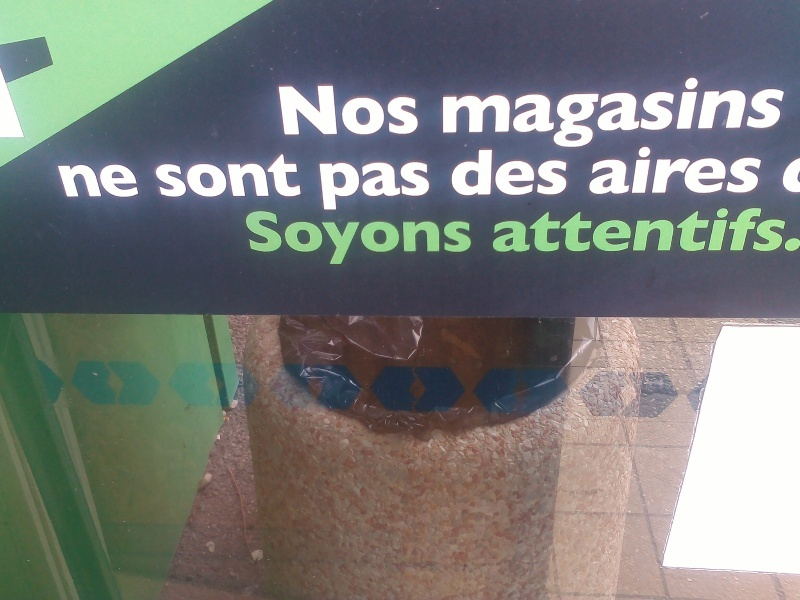text: (449, 76, 464, 151), (465, 76, 480, 151), (481, 76, 496, 151), (497, 76, 512, 151), (513, 76, 528, 151), (529, 76, 544, 151), (545, 76, 560, 151), (561, 76, 576, 151), (577, 76, 592, 151), (593, 76, 608, 151), (609, 76, 624, 151), (625, 76, 640, 151), (641, 76, 656, 151), (657, 76, 672, 151), (673, 76, 688, 151), (689, 76, 704, 151), (705, 76, 720, 151), (721, 76, 736, 151), (737, 76, 752, 151), (753, 76, 768, 151), (769, 76, 784, 151), (257, 210, 272, 267), (273, 210, 288, 267), (289, 210, 304, 267), (305, 210, 320, 267), (321, 210, 336, 267), (337, 210, 352, 267), (353, 210, 368, 267), (369, 210, 384, 267), (385, 210, 400, 267), (401, 210, 416, 267), (417, 210, 432, 267), (433, 210, 448, 267), (449, 210, 464, 267), (289, 84, 304, 136), (305, 84, 320, 136), (321, 84, 336, 136), (337, 84, 352, 136), (353, 84, 368, 136), (369, 84, 384, 136), (385, 84, 400, 136), (401, 84, 416, 136), (321, 161, 336, 212), (337, 161, 352, 212), (353, 161, 368, 212), (369, 161, 384, 212), (385, 161, 400, 212), (401, 161, 416, 212), (593, 146, 608, 195), (609, 146, 624, 195), (625, 146, 640, 195), (641, 146, 656, 195), (657, 146, 672, 195), (673, 146, 688, 195), (689, 146, 704, 195), (705, 146, 720, 195), (721, 146, 736, 195), (737, 146, 752, 195), (497, 206, 512, 254), (513, 206, 528, 254), (529, 206, 544, 254), (545, 206, 560, 254), (561, 206, 576, 254), (577, 206, 592, 254), (593, 206, 608, 254), (609, 206, 624, 254), (625, 206, 640, 254), (641, 206, 656, 254), (657, 206, 672, 254), (673, 206, 688, 254), (689, 206, 704, 254), (705, 206, 720, 254), (721, 206, 736, 254), (737, 206, 752, 254), (753, 206, 768, 254), (769, 206, 784, 254), (785, 206, 800, 254), (161, 152, 176, 199), (177, 152, 192, 199), (193, 152, 208, 199), (209, 152, 224, 199), (225, 152, 240, 199), (241, 152, 256, 199), (257, 152, 272, 199), (273, 152, 288, 199), (465, 149, 480, 196), (481, 149, 496, 196), (497, 149, 512, 196), (513, 149, 528, 196), (529, 149, 544, 196), (545, 149, 560, 196), (244, 210, 256, 267), (417, 161, 430, 212), (289, 152, 302, 199), (451, 149, 464, 196), (785, 156, 800, 196), (753, 146, 764, 195), (65, 163, 80, 198), (81, 163, 96, 198), (97, 163, 112, 198), (113, 163, 128, 198), (278, 84, 288, 136), (129, 163, 142, 198), (442, 76, 448, 151), (465, 210, 472, 267), (561, 149, 568, 196), (154, 152, 160, 199), (58, 163, 64, 198), (780, 156, 784, 196), (417, 84, 420, 136), (493, 206, 496, 254), (590, 146, 592, 195), (785, 76, 786, 151), (319, 161, 320, 212)
